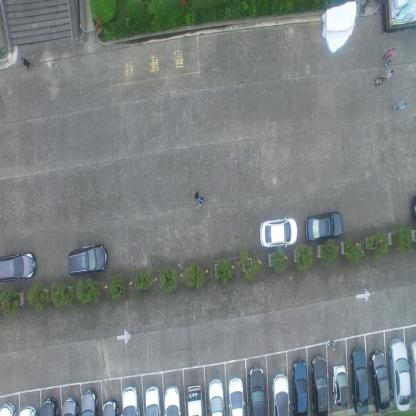car: (388, 336, 410, 413), (66, 243, 108, 277), (350, 345, 370, 415), (303, 210, 344, 243), (259, 215, 298, 247), (369, 349, 390, 408), (0, 250, 36, 284), (310, 354, 329, 416), (291, 358, 308, 416), (248, 364, 266, 415), (271, 372, 289, 416), (332, 364, 348, 408), (207, 377, 225, 415), (228, 375, 245, 415), (121, 384, 140, 416), (186, 383, 204, 415), (145, 383, 162, 415), (164, 385, 181, 415), (408, 339, 416, 402), (80, 388, 98, 415), (61, 394, 79, 416), (39, 397, 59, 415), (102, 397, 118, 415), (0, 400, 18, 415), (18, 405, 38, 415)
